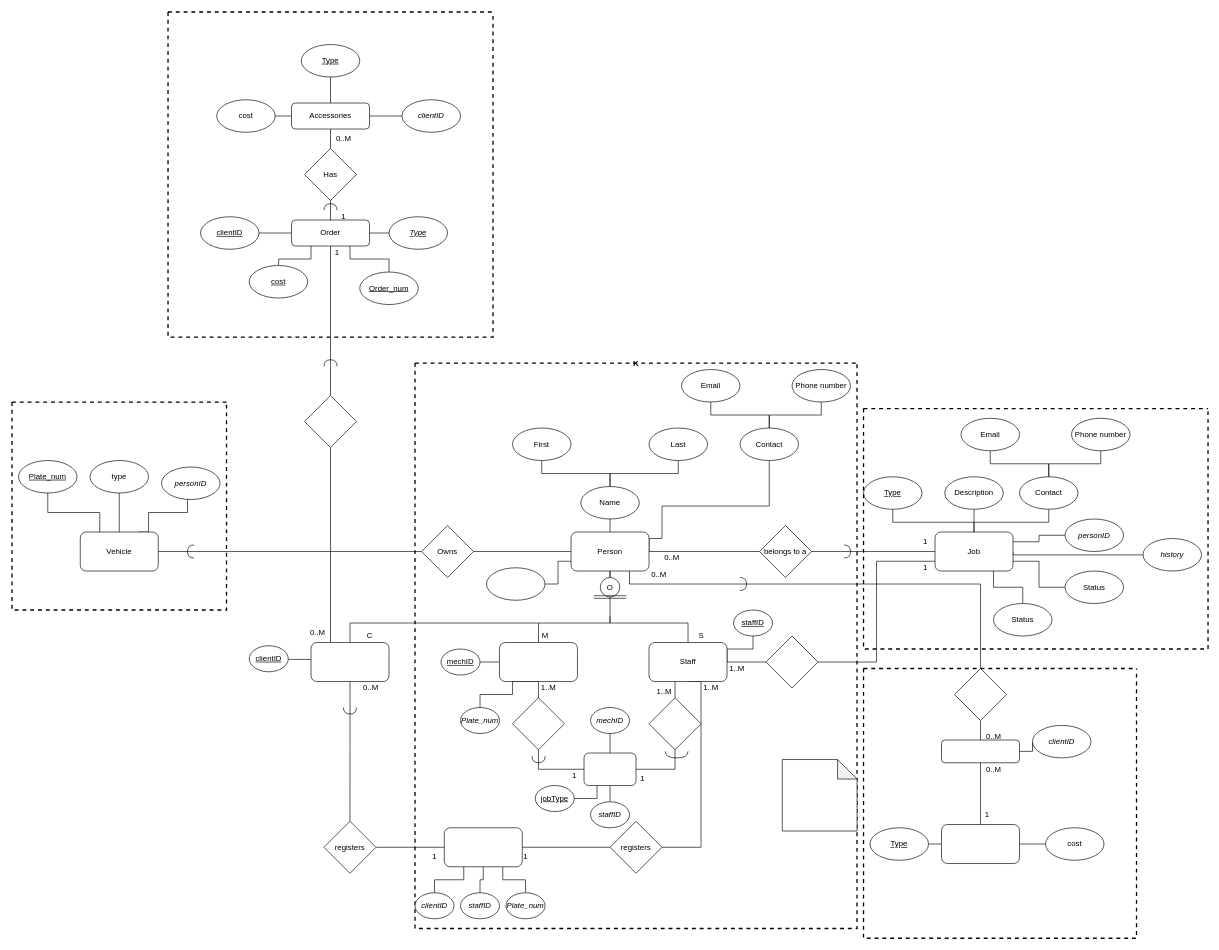
Some shapes in this 1219 by 950 pixel diagram are drawn without their labels. Each missing label, with the centre of its shape:
"ASK ABOUT REGISTRATION INFO" goes at pixel 819 795.
"Assignment" goes at pixel 609 769.
"asssigns" goes at pixel 674 723.
"Clients" goes at pixel 349 662.
"Creates" goes at pixel 791 661.
"is assigned" goes at pixel 538 723.
"Mechanic" goes at pixel 538 662.
"Orders" goes at pixel 980 694.
"Password" goes at pixel 515 583.
"Places" goes at pixel 330 421.
"Registration" goes at pixel 483 847.
"Repair" goes at pixel 980 751.
"VehicleComponenets" goes at pixel 980 844.
